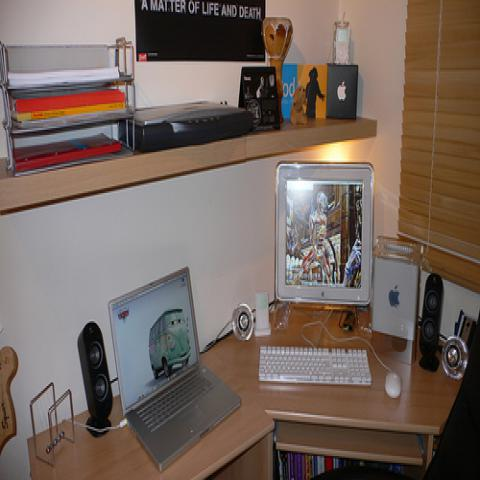bus: (149, 308, 192, 379)
